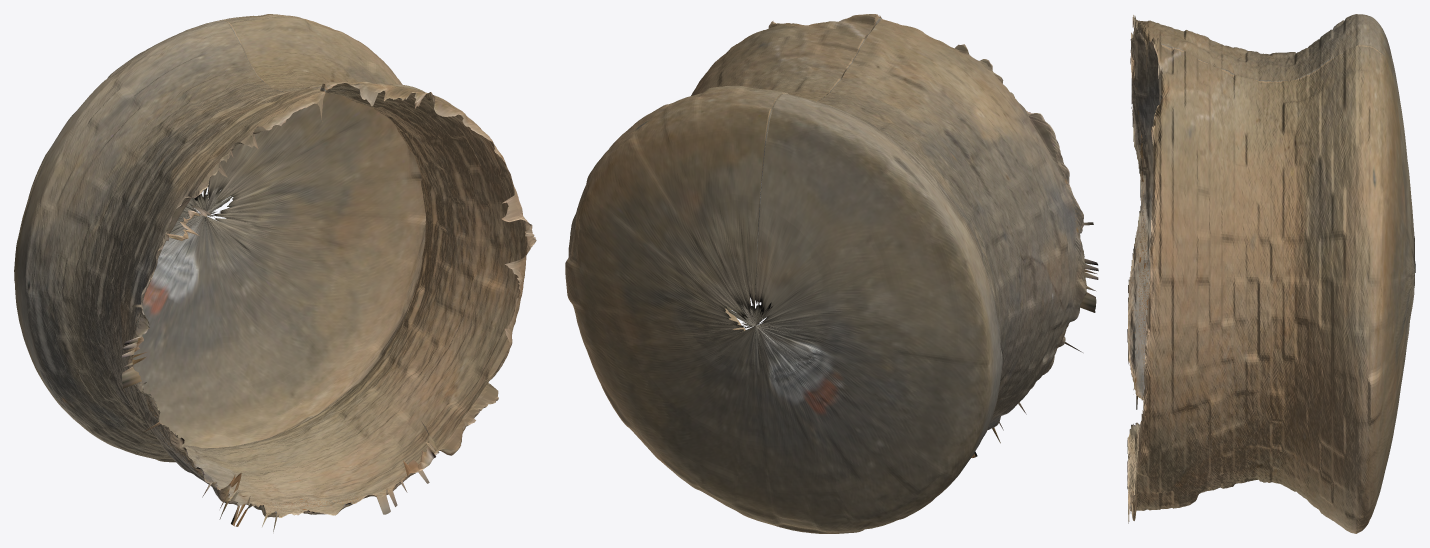
3 renders of one model, left to right at view 1: azimuth 30°, elevation 25°; view 2: azimuth 150°, elevation 25°; view 3: azimuth 270°, elevation 25°, orthographic. The views are drawn at different scales.
Parts seen in each view (by area): view 1: geometry_0; view 2: geometry_0; view 3: geometry_0.
Boxes of the visible parts, box(x1,y1,x2,y2) form: geometry_0: box(14, 14, 536, 531); geometry_0: box(565, 14, 1098, 533); geometry_0: box(1127, 14, 1415, 533).
Size of the model in its own units: 1.99 by 1.99 by 1.1.
Materials: 1 (1 with a texture image).
